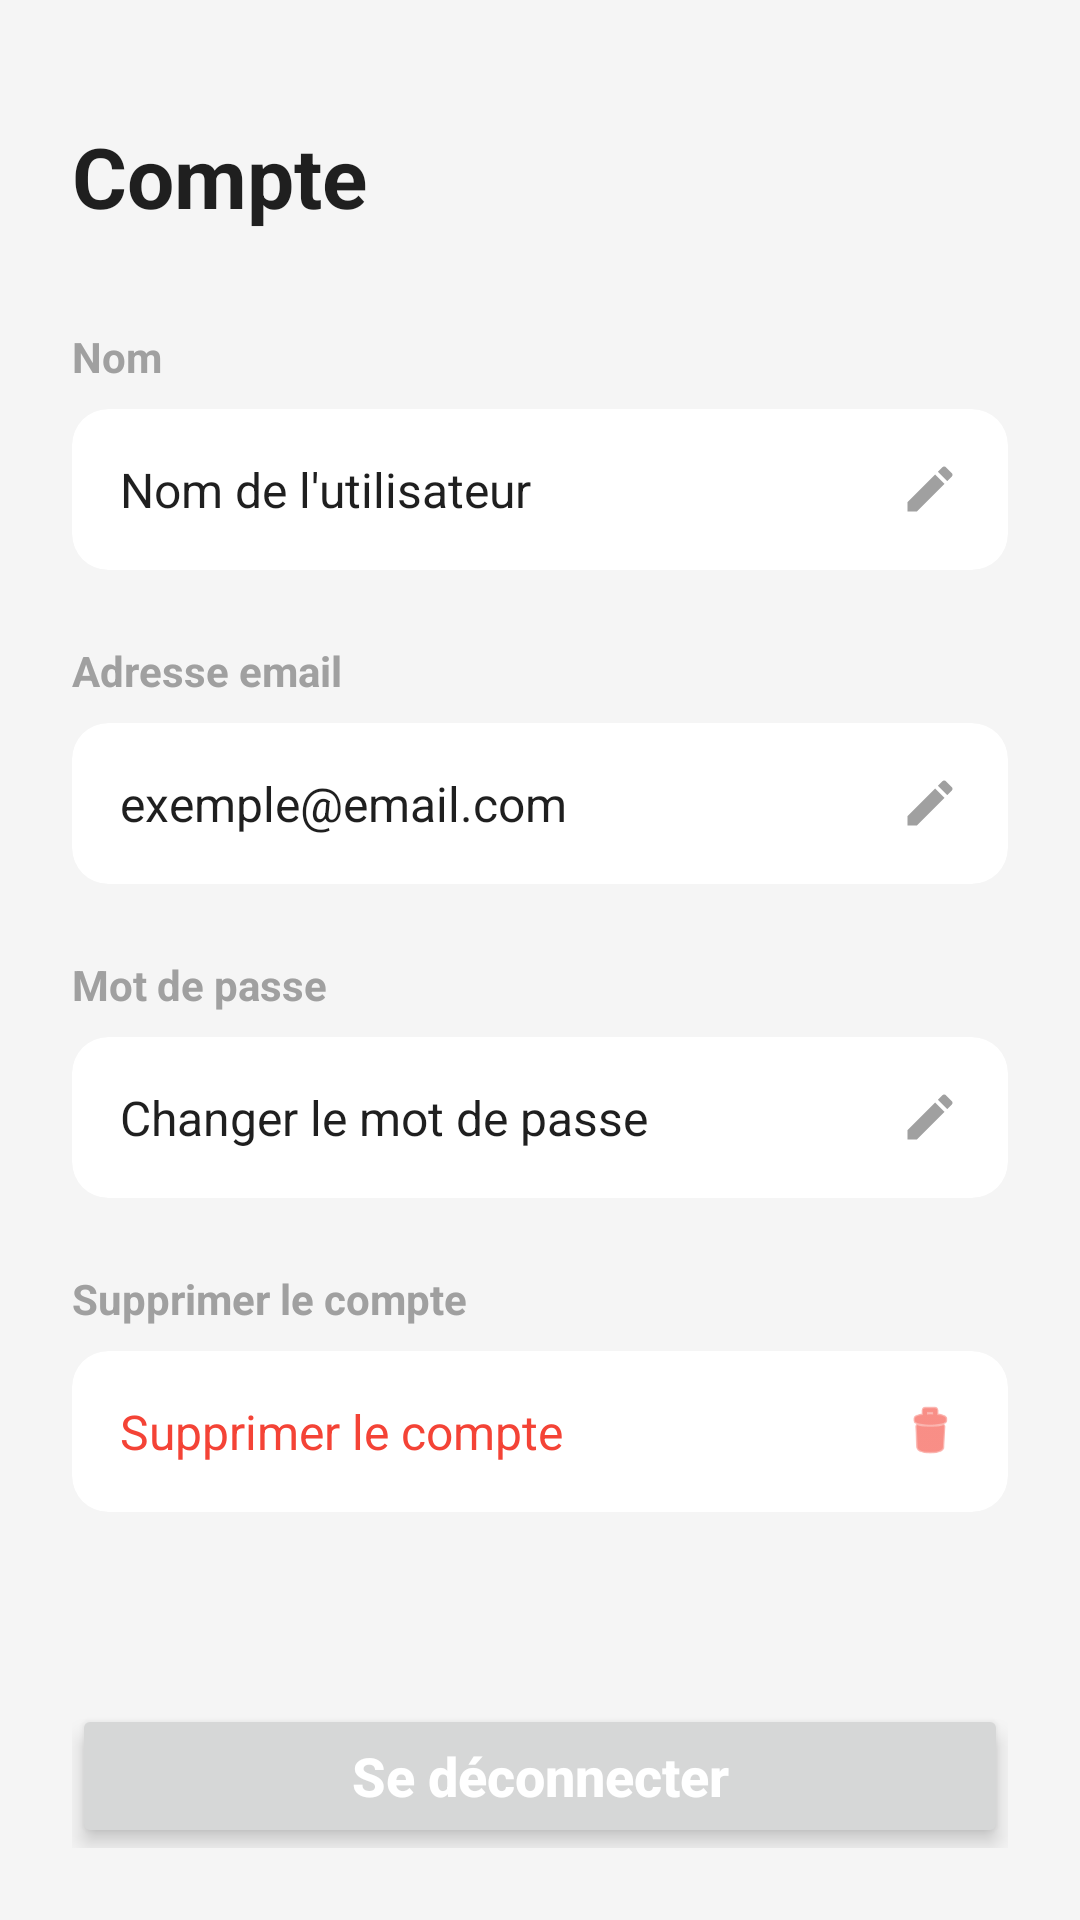

Icons on this 1080 × 1920 Android screen, each with the point to tap as (x,y):
delete: (930,1430)
edit: (930,489), (930,803), (930,1117)
